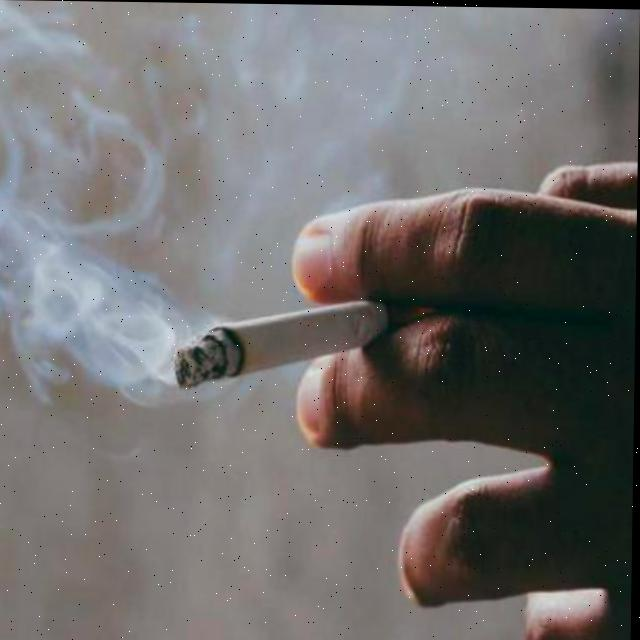cigarette: (173, 294, 403, 395)
